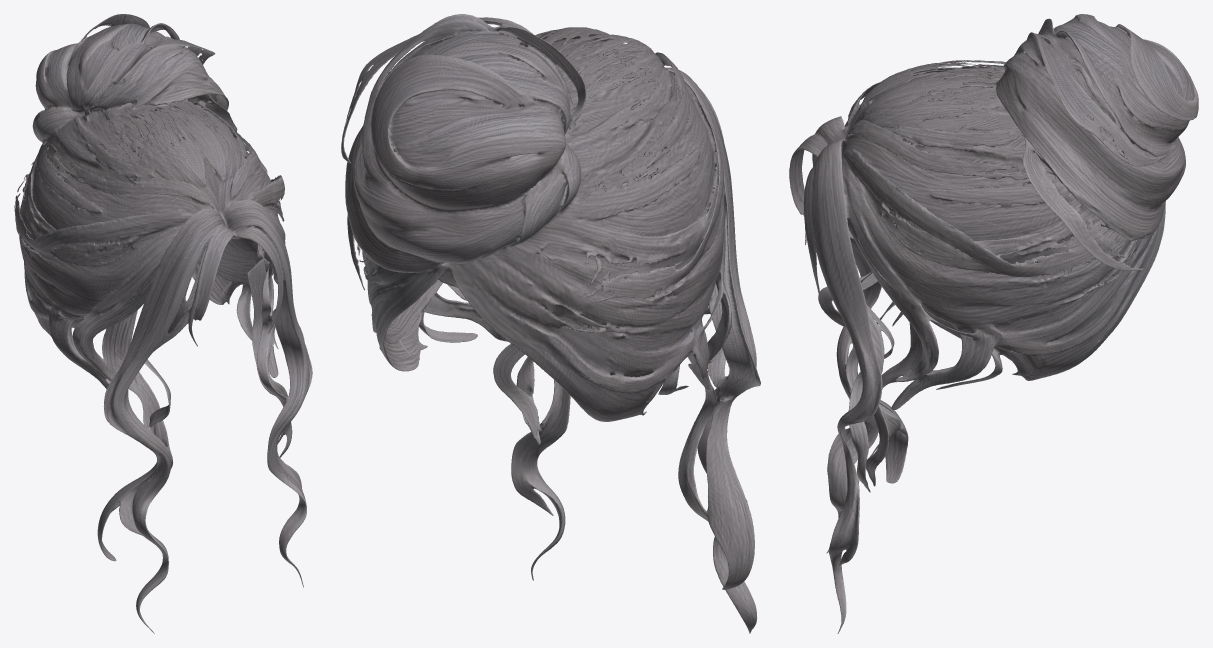
Rendered from Cabelo_6.glb.
3 views of the same model, side by side, from view 1: azimuth 30°, elevation 25°; view 2: azimuth 150°, elevation 25°; view 3: azimuth 270°, elevation 25° (orthographic). The views are drawn at different scales.
Size of the model in its own units: 0.9001 by 1.9 by 1.21.
1 material, 1 textured.
